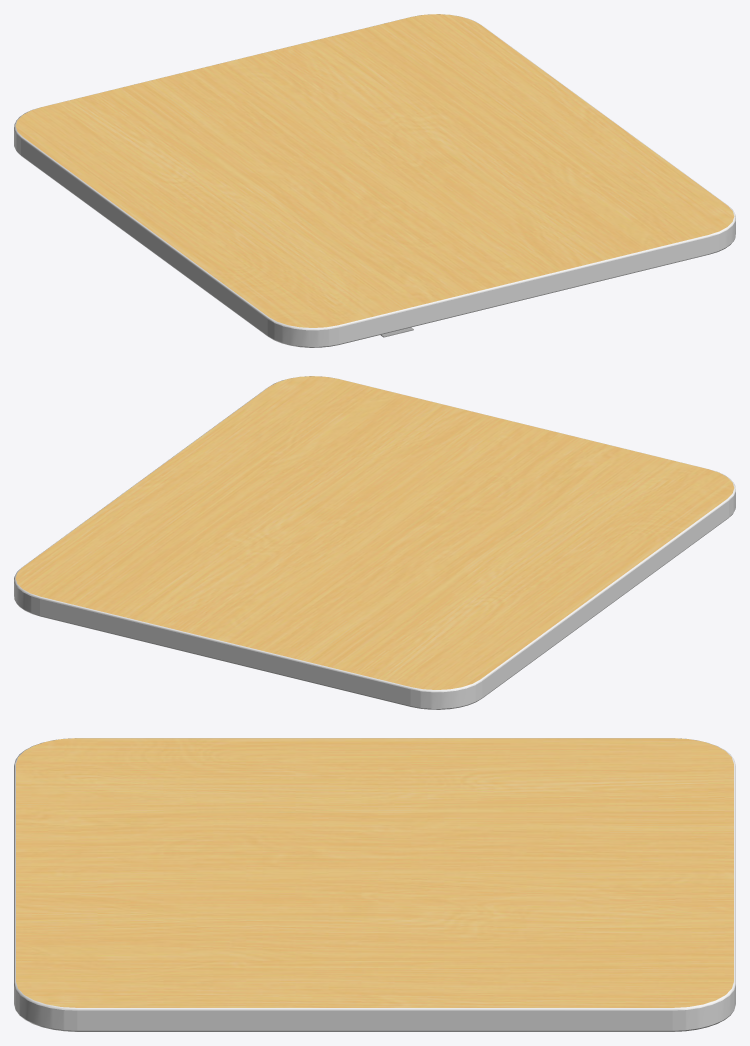
Rendered from HSU050000.glb.
3 views of the same model, one above another, from view 1: azimuth 30°, elevation 25°; view 2: azimuth 150°, elevation 25°; view 3: azimuth 270°, elevation 25° (orthographic). The views are drawn at different scales.
Visible parts, largest first — view 1: 4 (×2); view 2: 4 (×2); view 3: 4 (×2).
Part boxes in pixels (x1,y1,x2,y2): 4 (×2): (14,14,735,347); 4 (×2): (14,376,735,709); 4 (×2): (14,738,735,1031).
Bounding box in the file's own units: 0.61 × 0.0652 × 0.6855.
Materials: 3 (1 with a texture image).
